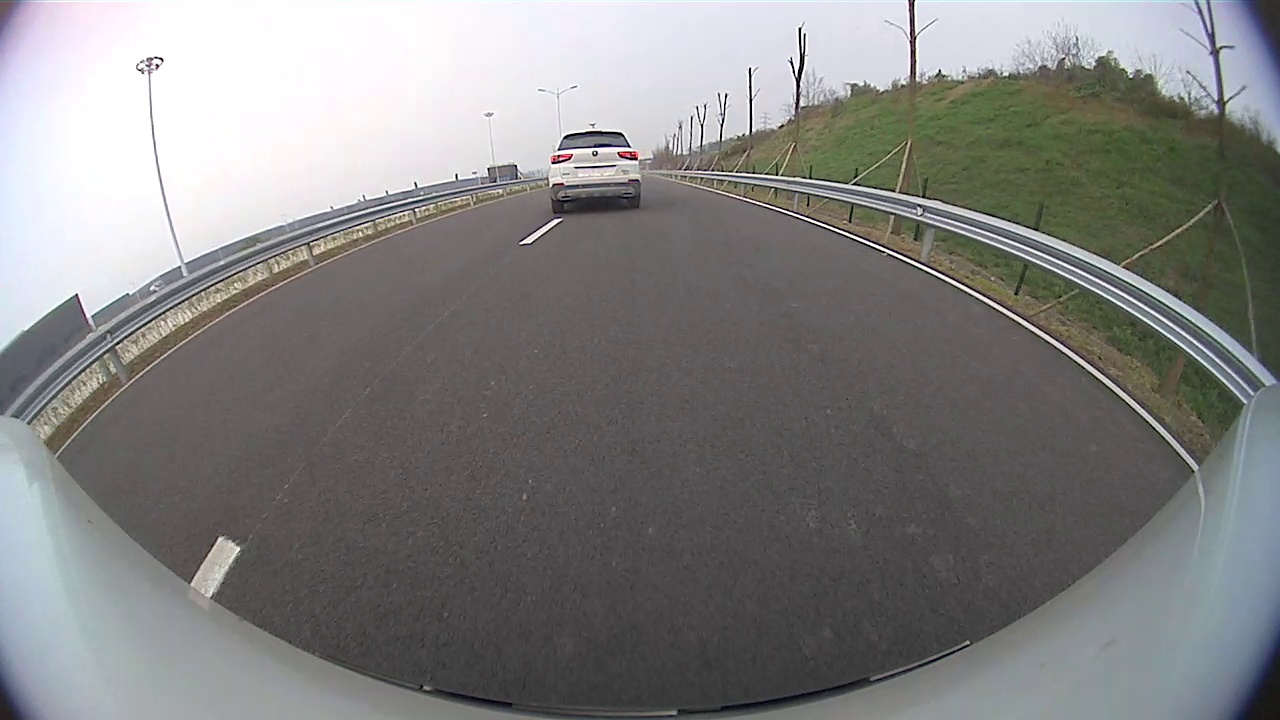car: (548, 130, 642, 213)
